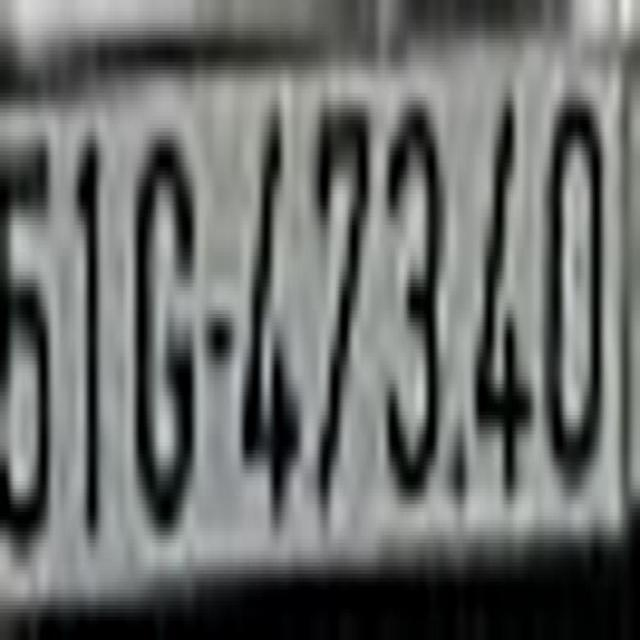0: (537, 78, 605, 492)
1: (77, 132, 108, 532)
3: (380, 70, 445, 500)
4: (238, 109, 300, 528), (470, 66, 530, 493)
5: (1, 124, 55, 551)
7: (305, 89, 372, 520)
G: (130, 112, 198, 524)
